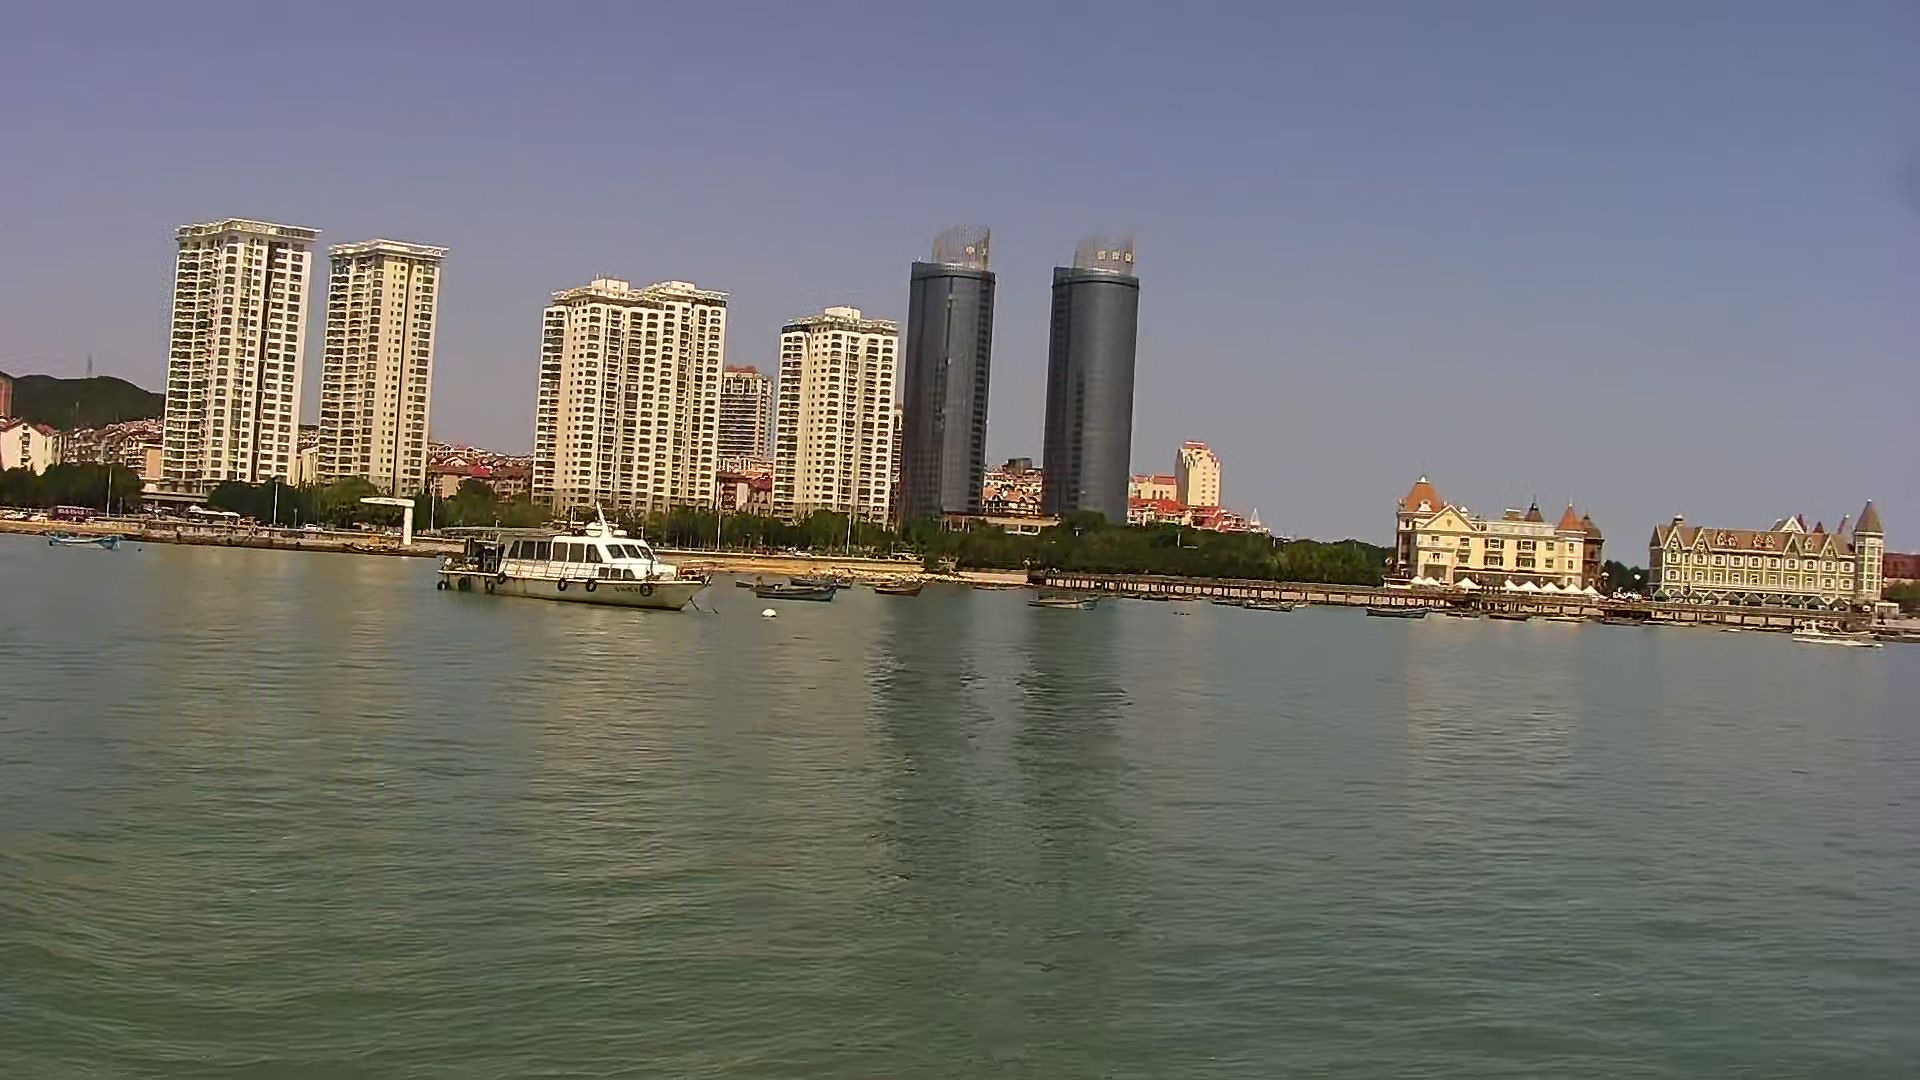ball: (756, 605, 781, 618)
boat: (44, 526, 128, 554), (1025, 585, 1102, 613), (756, 576, 847, 597), (870, 580, 928, 597)
ship: (436, 506, 709, 615)
